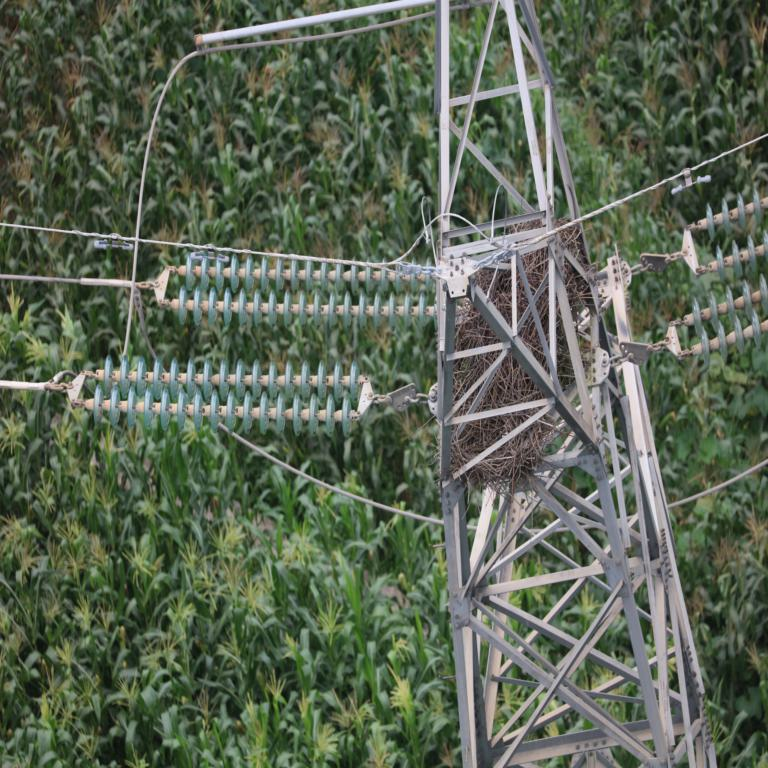nest: (452, 222, 592, 488)
